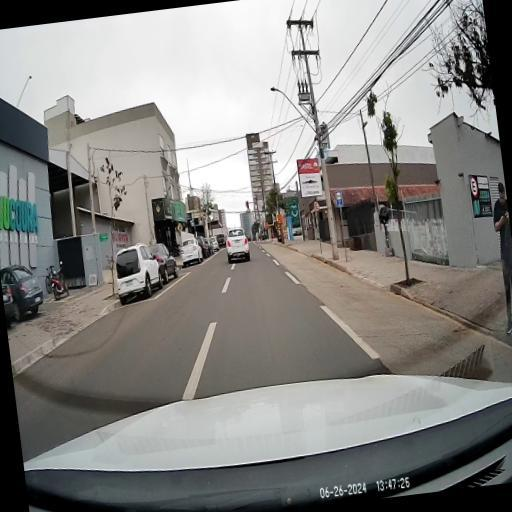R-6a: (314, 200, 320, 212)
